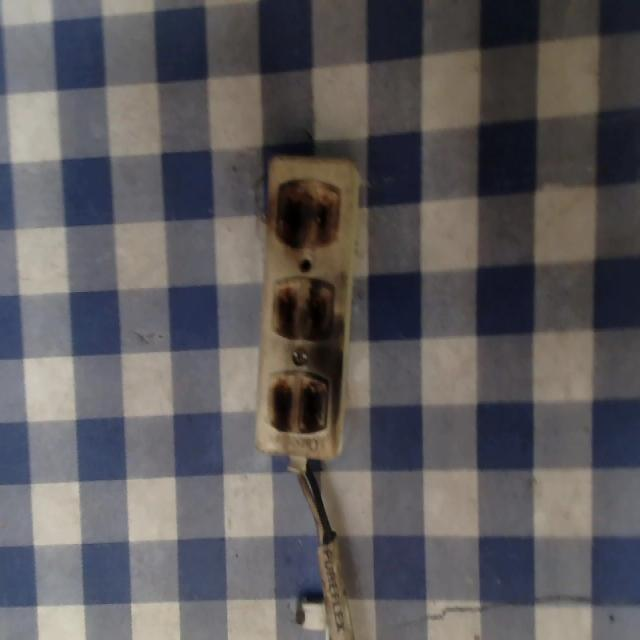-: (267, 177, 347, 252), (261, 274, 341, 342), (263, 367, 329, 440)
